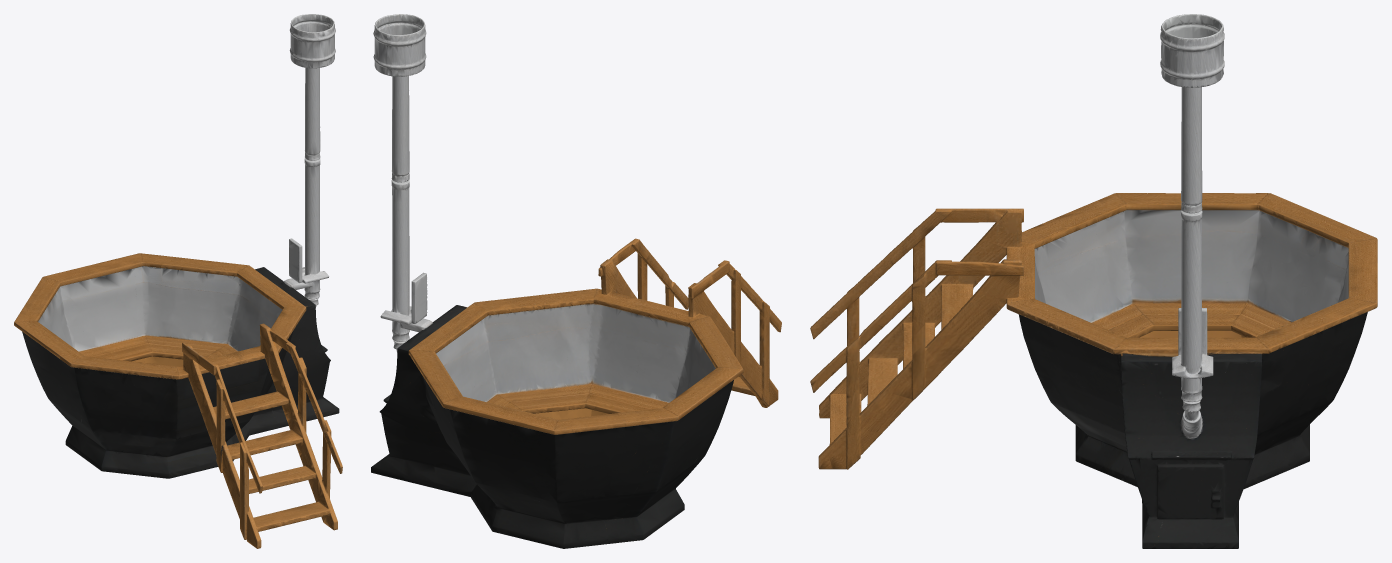
The model's file is wood-fired-hot-tub-web.glb.
The picture shows the model from 3 angles, left to right: view 1: azimuth 30°, elevation 25°; view 2: azimuth 150°, elevation 25°; view 3: azimuth 270°, elevation 25°; orthographic projection. The views are drawn at different scales.
Visible parts, largest first — view 1: mesh_node; view 2: mesh_node; view 3: mesh_node.
Boxes of the visible parts, left/top/right/bottom form: mesh_node: left=14, top=14, right=342, bottom=548; mesh_node: left=371, top=14, right=781, bottom=548; mesh_node: left=810, top=14, right=1377, bottom=548.
Bounding box in the file's own units: 1.52 × 1.9 × 1.89.
1 material, 1 textured.
